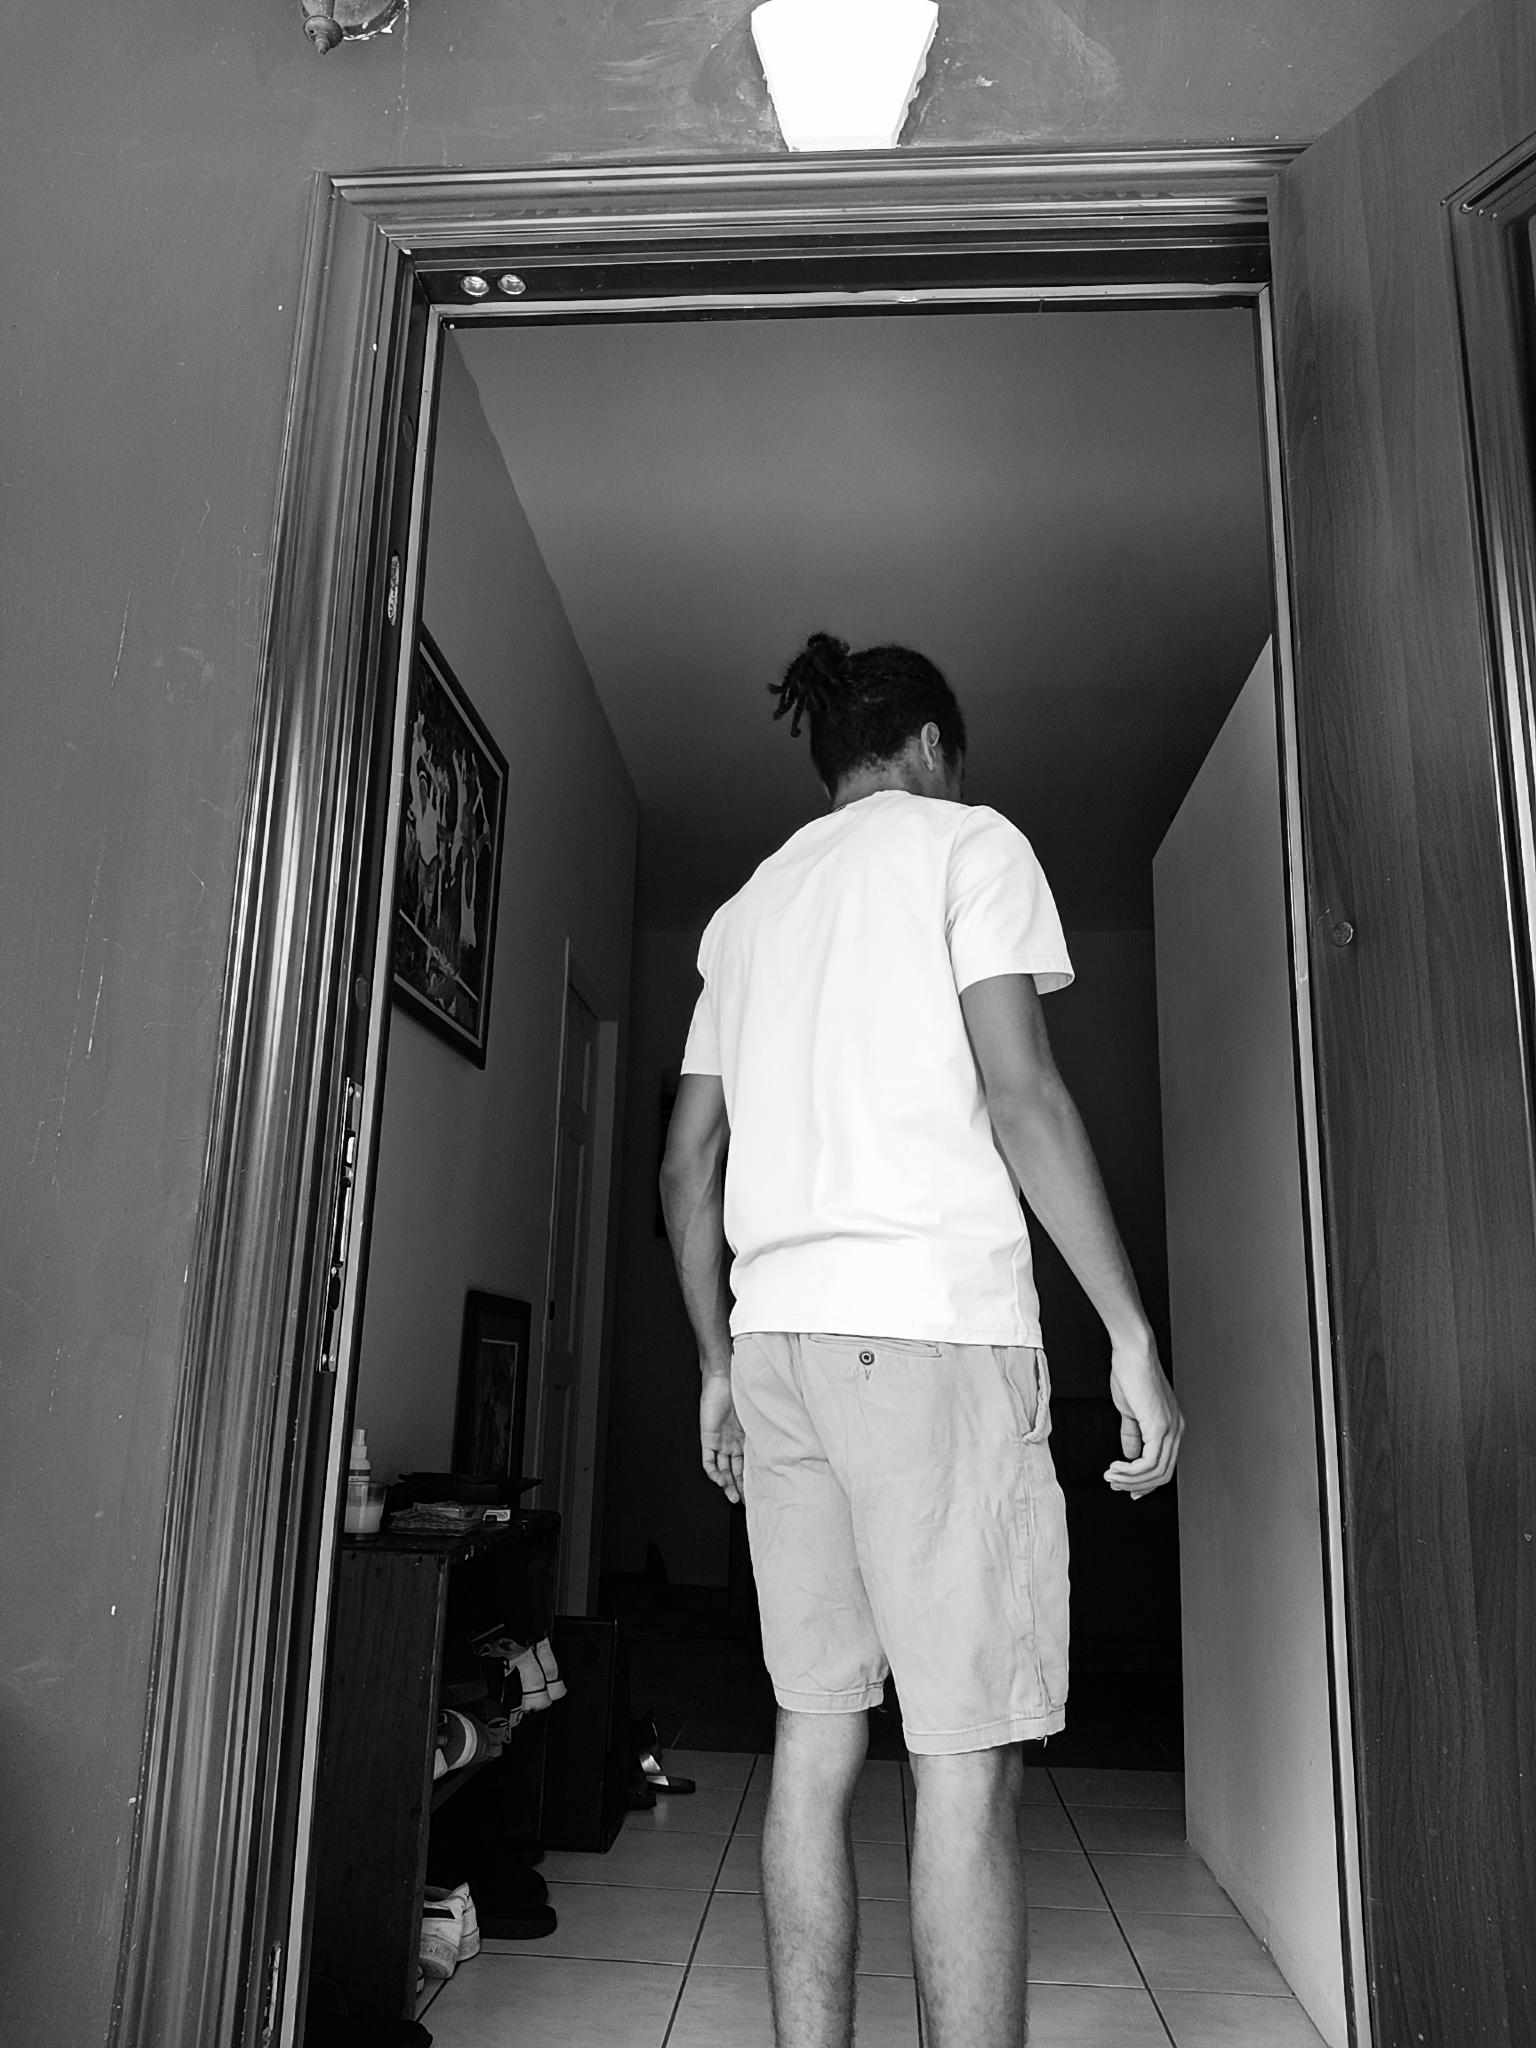back: (652, 626, 1186, 2040)
